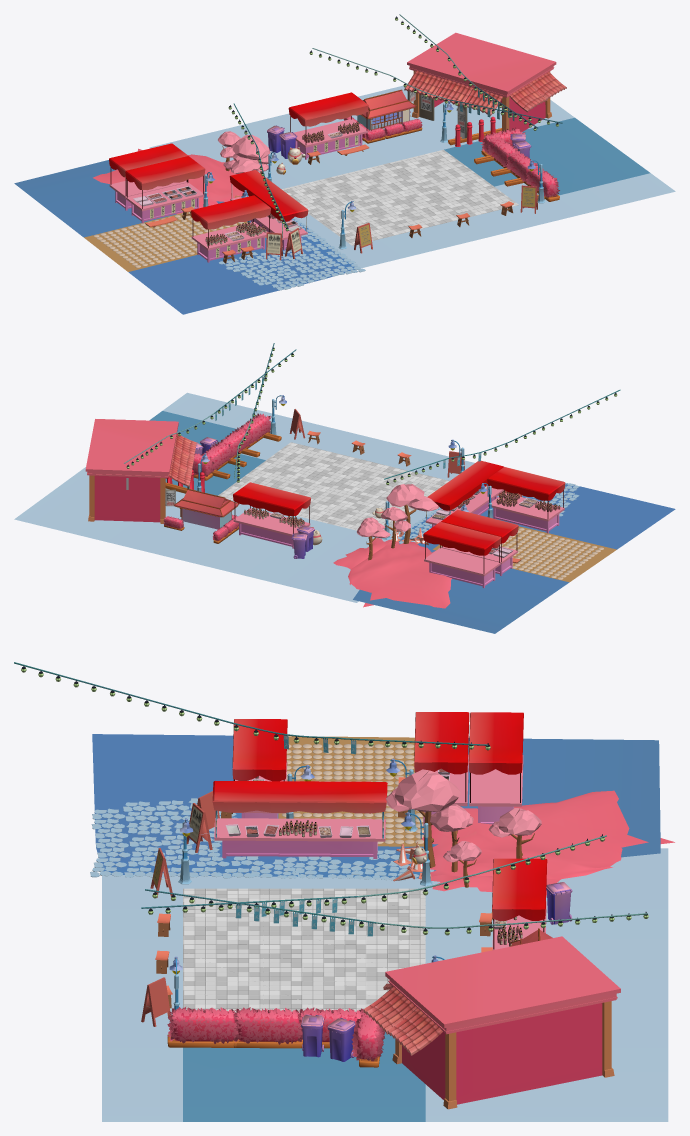
The model's file is Environment 06 10 2025.fbx.
3 views of the same model, one above another, from view 1: azimuth 30°, elevation 25°; view 2: azimuth 150°, elevation 25°; view 3: azimuth 270°, elevation 25° (orthographic). The views are drawn at different scales.
Parts seen in each view (by area): view 1: Environment; view 2: Environment; view 3: Environment.
Boxes of the visible parts, left/top/right/bottom form: Environment: left=14, top=14, right=675, bottom=314; Environment: left=14, top=343, right=675, bottom=633; Environment: left=14, top=662, right=674, bottom=1121.
Size of the model in its own units: 4880 by 828 by 3520.
3 materials, 2 textured.
